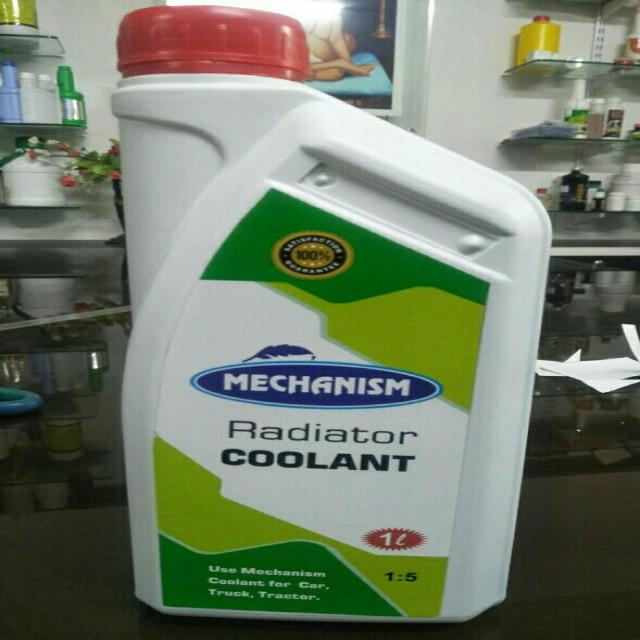coolant: (92, 0, 547, 623)
